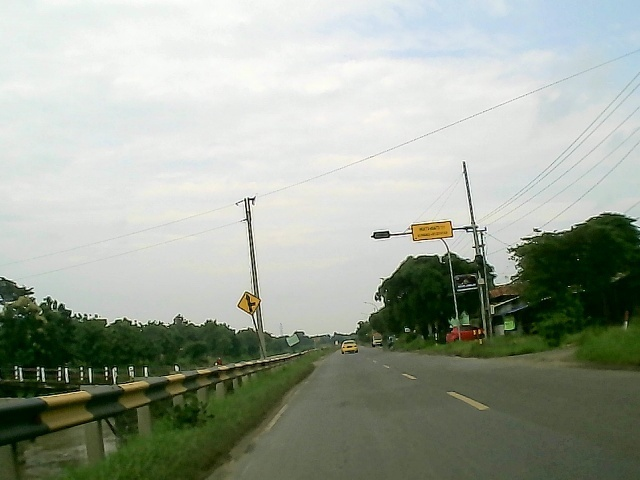Simpang kanan dengan prioritas: (236, 290, 262, 316)
